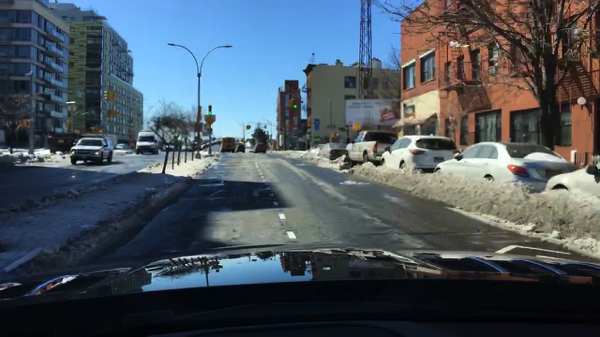bus: (219, 136, 235, 153)
car: (432, 142, 568, 191), (379, 132, 457, 174), (543, 163, 599, 198), (341, 129, 397, 164), (69, 137, 113, 163), (318, 143, 349, 159), (252, 143, 267, 154), (307, 145, 325, 154), (235, 140, 245, 154), (115, 141, 128, 150)
person: (131, 139, 134, 150)
traffic light: (18, 118, 28, 129), (330, 132, 339, 140), (207, 104, 212, 116), (104, 88, 110, 98), (287, 98, 292, 110), (111, 88, 115, 102), (73, 128, 81, 135), (112, 110, 118, 119), (107, 108, 112, 118), (90, 126, 96, 133), (292, 98, 296, 108), (46, 126, 51, 133), (65, 121, 69, 129), (97, 126, 101, 133), (249, 124, 252, 131), (245, 125, 247, 132)
traffic sign: (204, 116, 215, 126), (69, 105, 77, 115), (193, 124, 200, 132), (66, 101, 76, 105)
truck: (135, 130, 158, 154)
